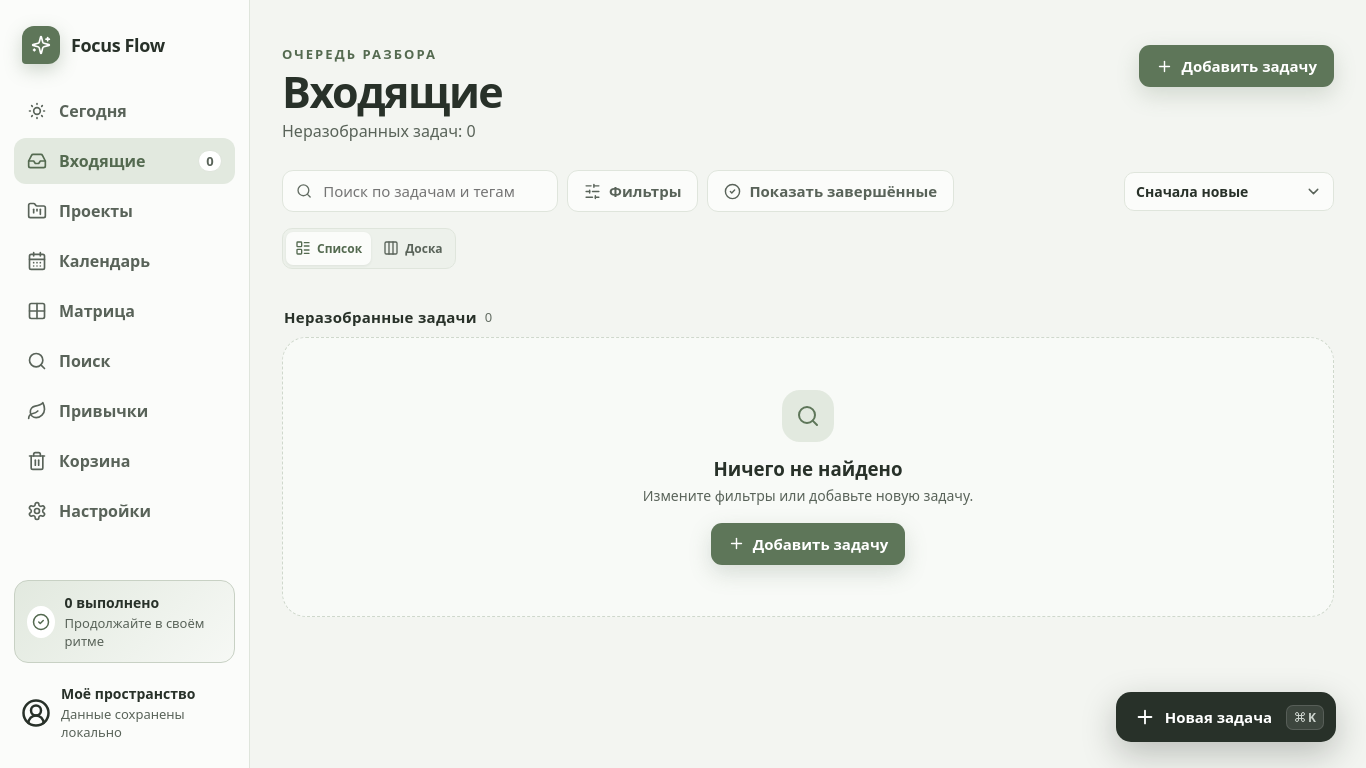
Test: TaskCard safety and focus › shows a date-only task without inventing time, deadline or urgency
Expected: the heading "Входящие" is shown, [282, 70, 502, 113]
Click the button "Фильтры" at (633, 191), box [567, 170, 698, 212]
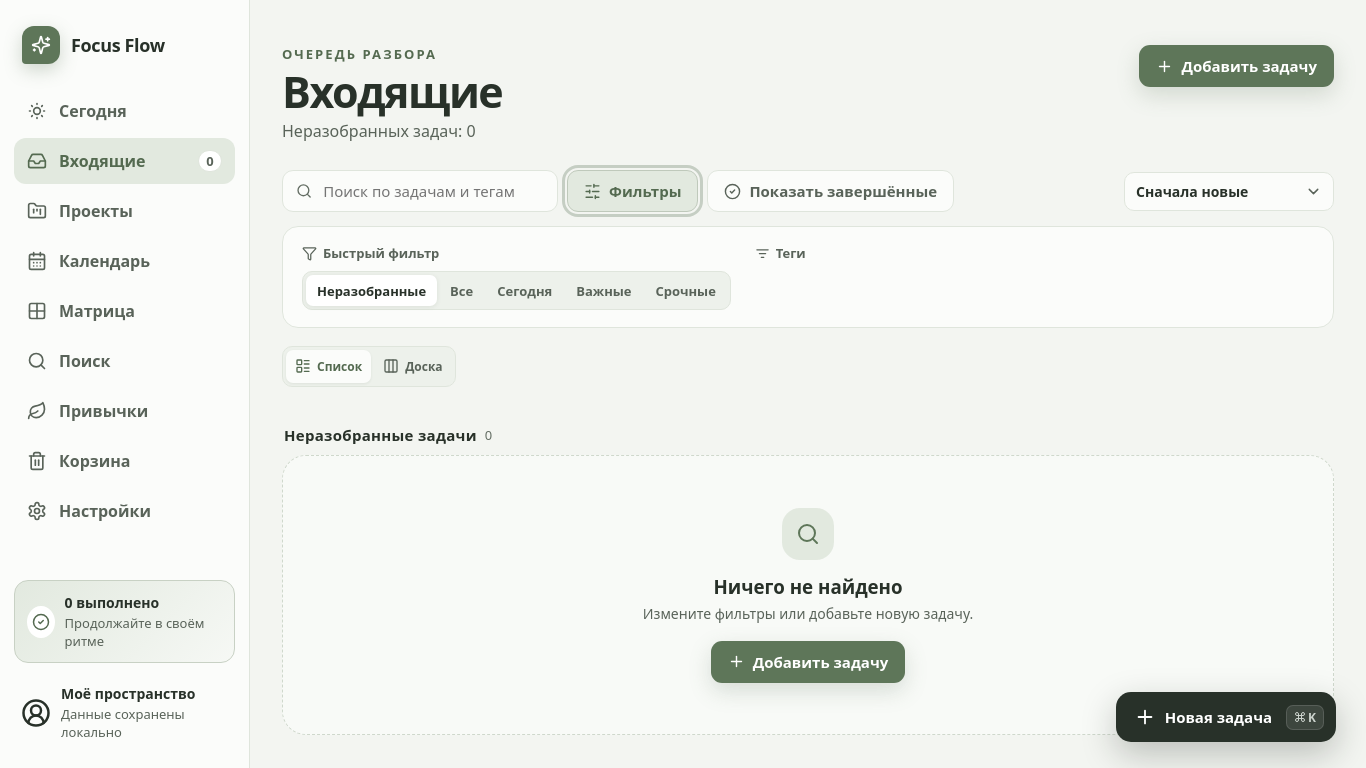
Click the button "Все" at (462, 290), box [439, 275, 484, 306]
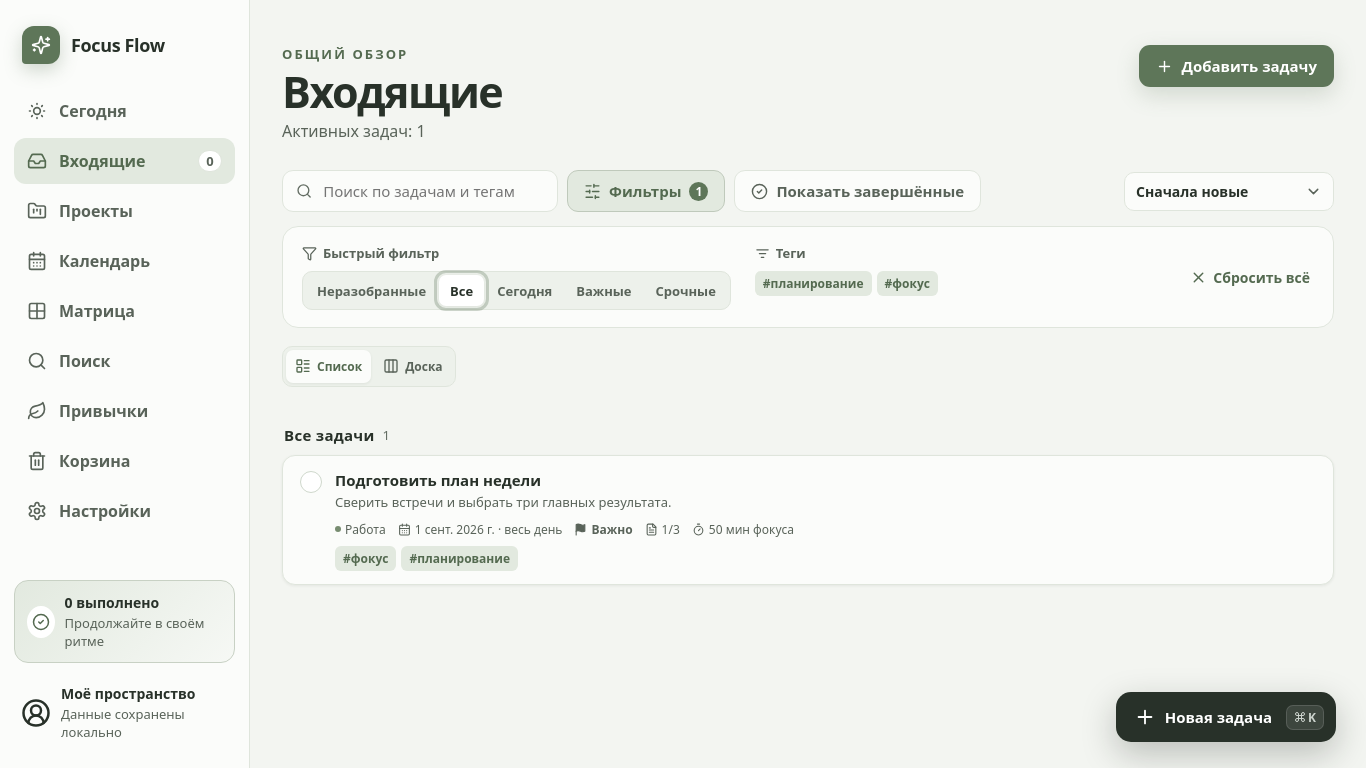
Now the text "1 сент. 2026 г. · весь день" is shown, box [398, 521, 562, 538]
